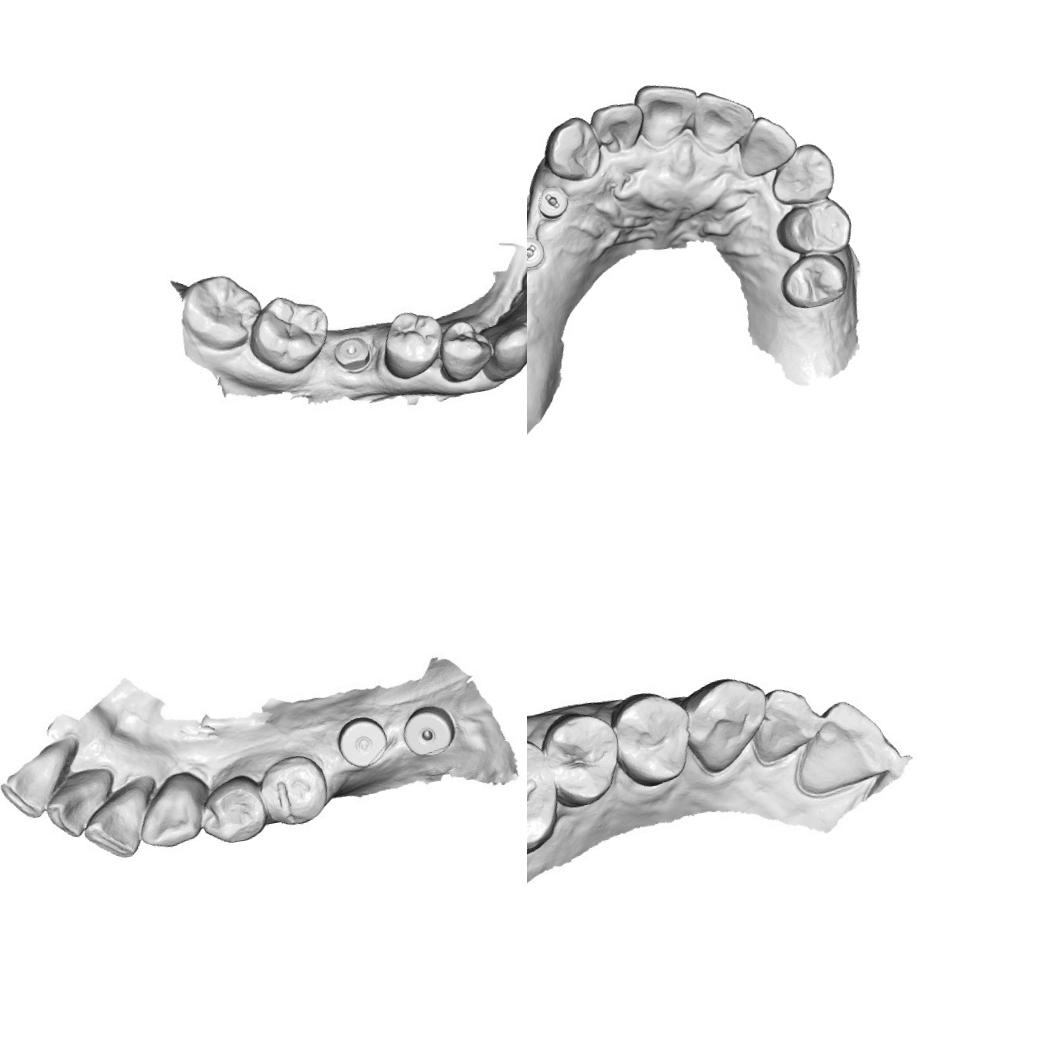canine: (681, 664, 774, 784), (129, 766, 214, 860), (762, 138, 838, 210), (537, 111, 606, 186), (478, 316, 527, 384)
implant: (399, 696, 460, 762), (333, 711, 393, 776), (330, 328, 374, 376)
implant_minus: (532, 182, 572, 222), (527, 231, 548, 275)
incisor: (790, 691, 900, 796), (77, 766, 164, 856), (746, 676, 823, 767), (42, 762, 121, 846), (0, 741, 82, 819), (630, 75, 704, 151), (687, 82, 760, 159), (732, 108, 800, 178), (587, 98, 650, 156), (493, 297, 527, 349), (514, 273, 527, 316)
molar: (240, 288, 338, 380), (174, 263, 268, 356), (527, 731, 570, 866)
premolar: (606, 681, 697, 793), (538, 705, 628, 812), (374, 302, 451, 384), (253, 750, 332, 827), (770, 192, 856, 262), (774, 248, 852, 313), (198, 774, 266, 848), (432, 316, 500, 384)
